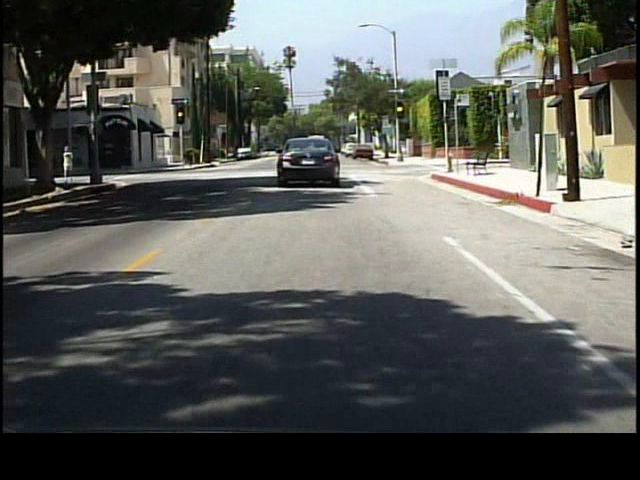person: (62, 144, 80, 188)
